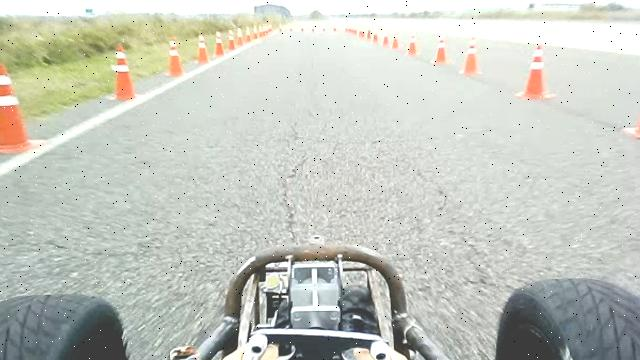red cone: (0, 60, 46, 154), (516, 43, 556, 100), (108, 42, 142, 101), (460, 36, 482, 76), (164, 40, 187, 77), (432, 34, 448, 65), (197, 34, 210, 65), (406, 30, 420, 56), (214, 30, 225, 57), (236, 27, 245, 47), (228, 29, 236, 50), (391, 31, 399, 49), (382, 30, 390, 47), (245, 26, 252, 43)
